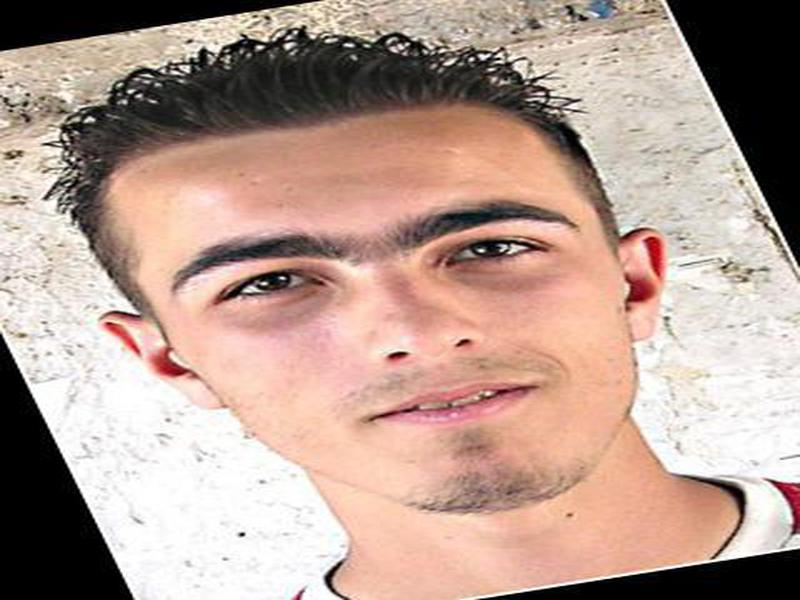without_mask: (85, 110, 634, 502)
